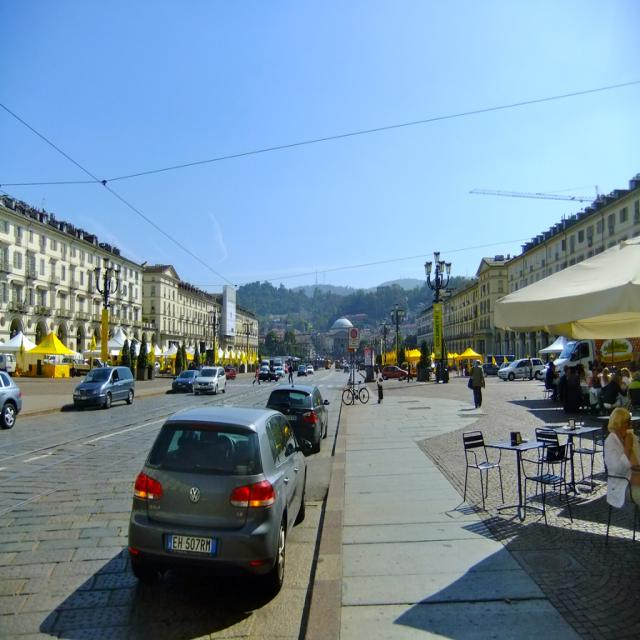car: (126, 402, 307, 612), (268, 379, 329, 451), (72, 362, 132, 406), (193, 361, 229, 397), (170, 364, 201, 392), (296, 359, 307, 378)
